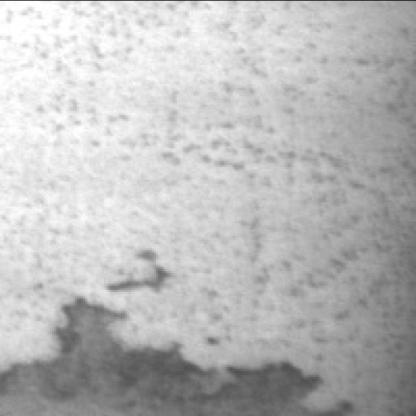patches: (4, 300, 233, 414), (187, 358, 335, 408)
pitted_surface: (2, 2, 416, 337)
